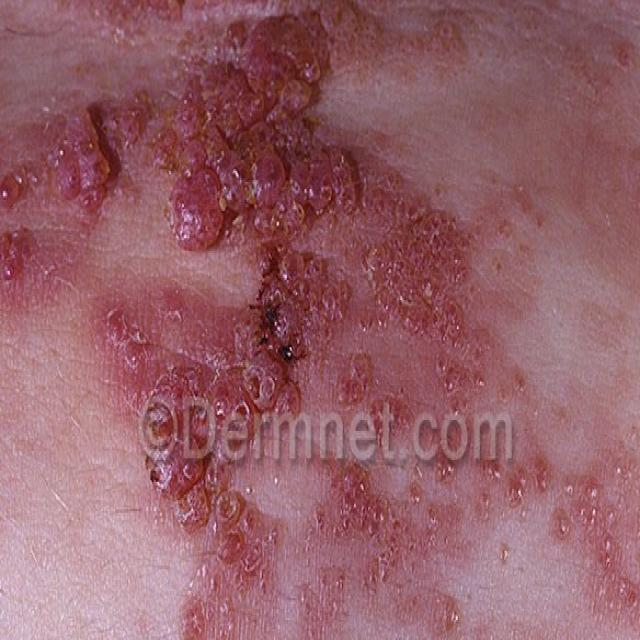Vascular Tumors: (89, 265, 504, 640), (150, 3, 365, 253), (524, 371, 640, 640), (0, 42, 123, 267)
